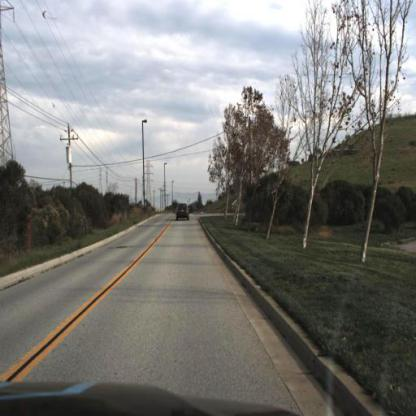car: (175, 198, 191, 225)
